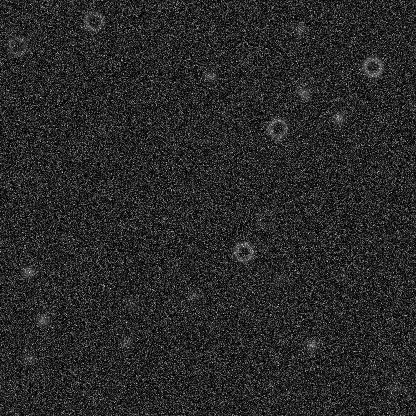Ring: (231, 239, 255, 263), (265, 116, 289, 140), (5, 33, 29, 57), (360, 54, 384, 78), (81, 9, 105, 33), (254, 207, 278, 231)
Spot: (201, 67, 217, 83), (184, 287, 200, 303), (291, 21, 307, 37), (271, 270, 287, 286), (385, 380, 401, 396), (303, 337, 319, 353), (118, 334, 134, 350), (295, 85, 311, 101), (330, 110, 346, 126), (34, 311, 50, 327), (19, 263, 35, 279), (21, 349, 37, 365), (123, 297, 139, 313)
